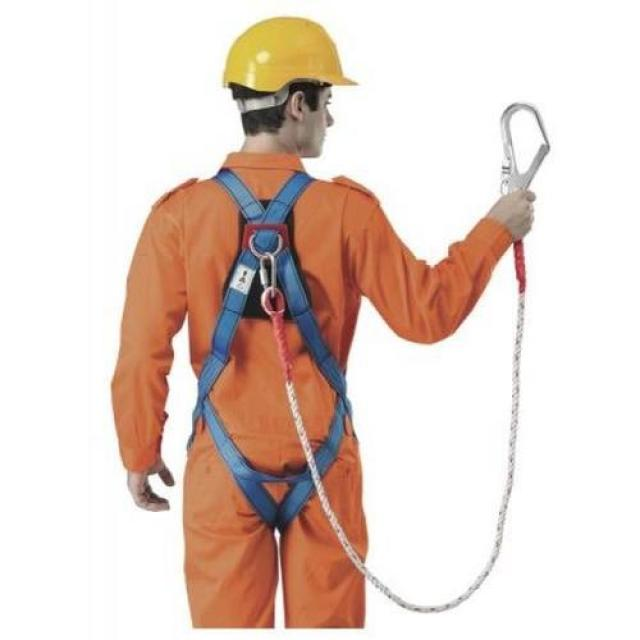harness: (250, 102, 566, 624)
